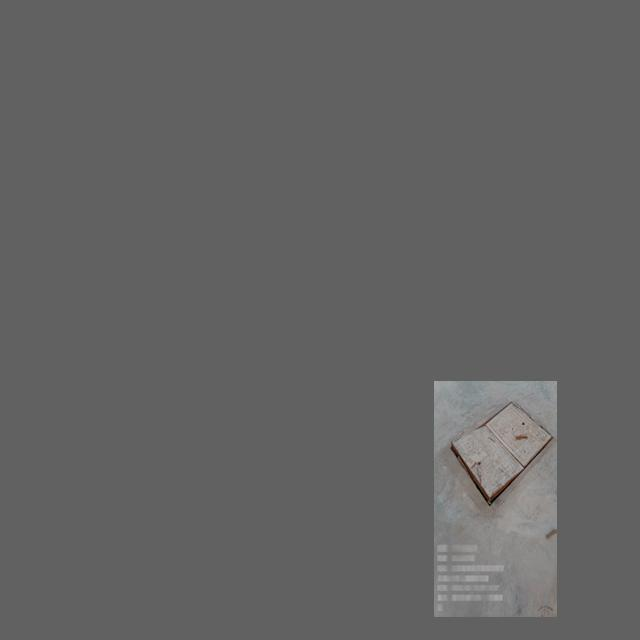uncovered: (448, 399, 554, 511)
